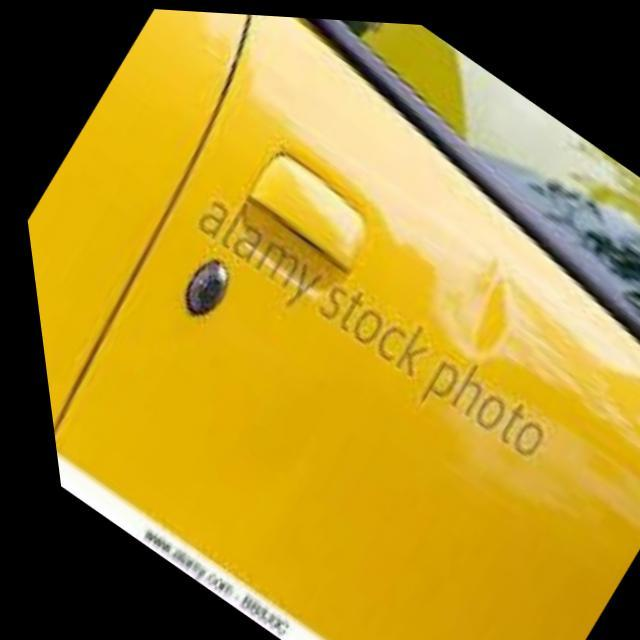dent: (422, 256, 520, 370)
